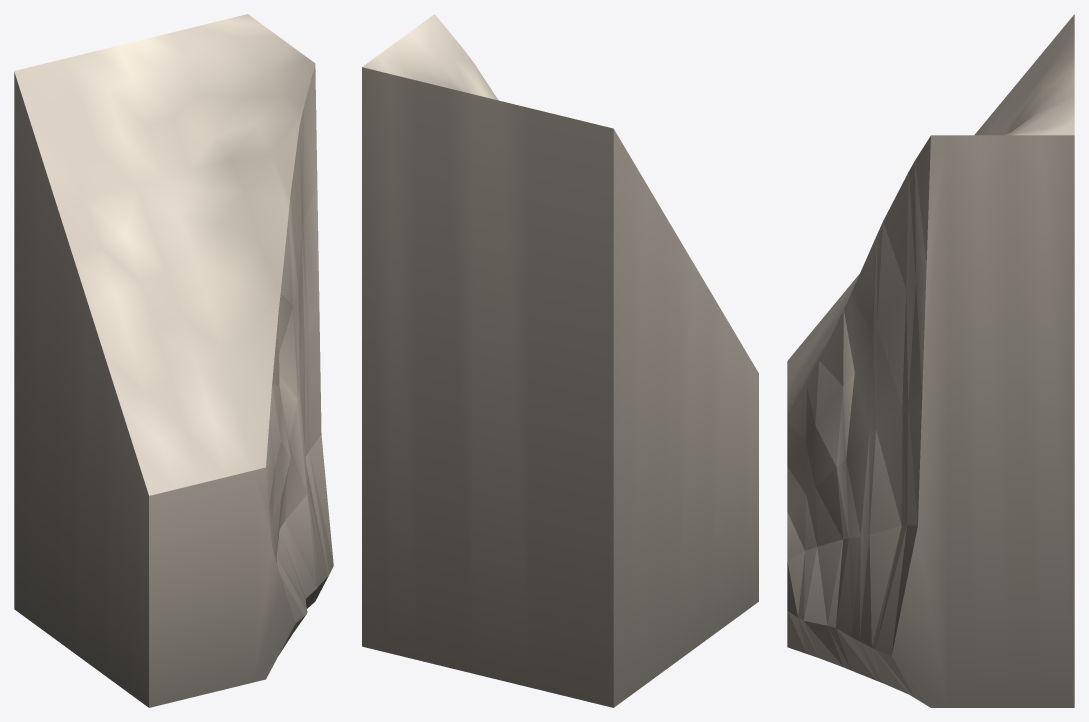
The model's file is SM_VKI_Rock_Cave_COFF_B.fbx.
The picture shows the model from 3 angles, left to right: view 1: azimuth 30°, elevation 25°; view 2: azimuth 150°, elevation 25°; view 3: azimuth 270°, elevation 25°; orthographic projection. The views are drawn at different scales.
Parts seen in each view (by area): view 1: SM_VKI_Rock_Cave_COFF_B.001; view 2: SM_VKI_Rock_Cave_COFF_B.001; view 3: SM_VKI_Rock_Cave_COFF_B.001.
Part boxes in pixels (x1=…): SM_VKI_Rock_Cave_COFF_B.001: x1=14, y1=14, x2=333, y2=707; SM_VKI_Rock_Cave_COFF_B.001: x1=362, y1=14, x2=758, y2=707; SM_VKI_Rock_Cave_COFF_B.001: x1=787, y1=14, x2=1074, y2=707.
Size of the model in its own units: 1.5 by 3.3 by 1.5.
